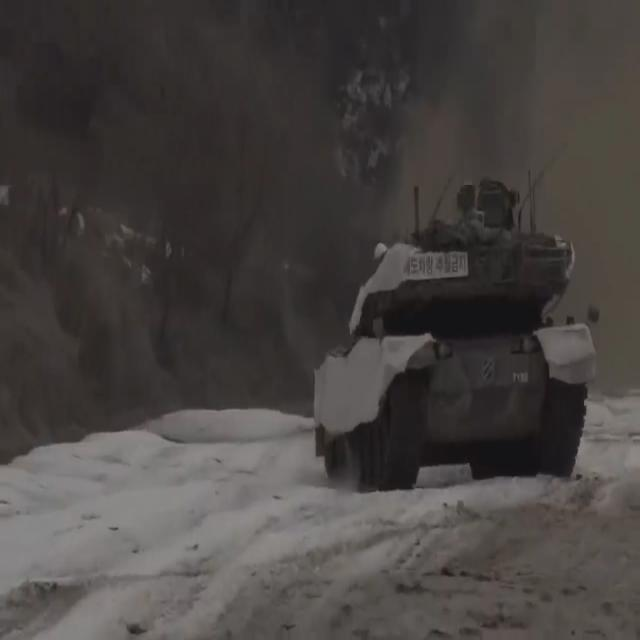korea tank: (312, 175, 600, 493)
